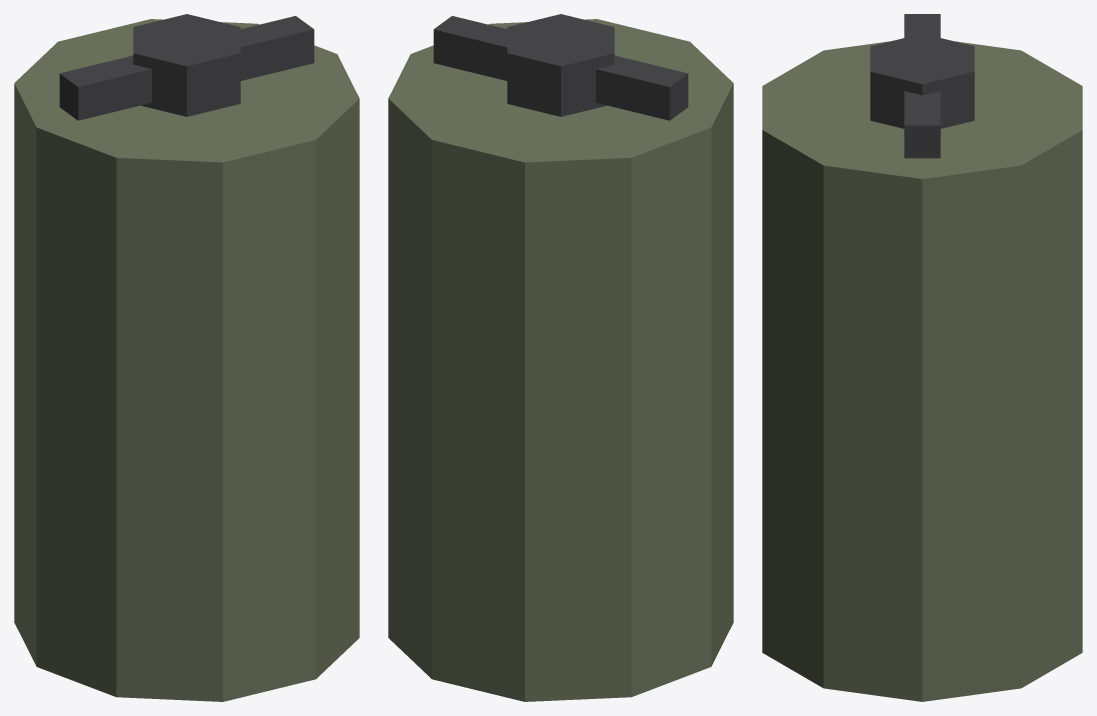
File: fb_water_can.glb
The picture shows the model from 3 angles, left to right: view 1: azimuth 30°, elevation 25°; view 2: azimuth 150°, elevation 25°; view 3: azimuth 270°, elevation 25°; orthographic projection. The views are drawn at different scales.
Visible parts, largest first — view 1: fb_water_can; view 2: fb_water_can; view 3: fb_water_can.
Boxes of the visible parts, left/top/right/bottom form: fb_water_can: left=14, top=14, right=359, bottom=701; fb_water_can: left=388, top=14, right=733, bottom=701; fb_water_can: left=762, top=14, right=1082, bottom=701.
Size of what is drawn, in the model's own units: 0.28 by 0.525 by 0.2663.
